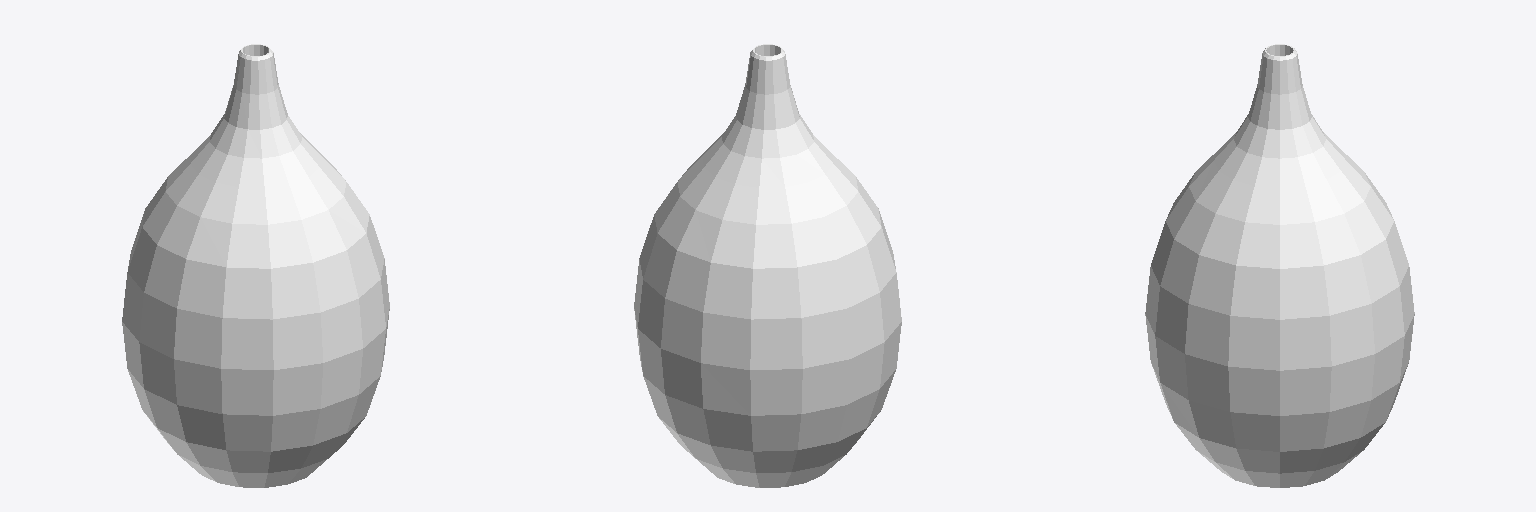
The model's file is vase_5.obj.
3 views of the same model, side by side, from view 1: azimuth 30°, elevation 25°; view 2: azimuth 150°, elevation 25°; view 3: azimuth 270°, elevation 25° (orthographic).
Visible parts, largest first — view 1: vase_006; view 2: vase_006; view 3: vase_006.
Boxes of the visible parts, box(x1,y1,x2,y2) form: vase_006: box(122, 44, 389, 487); vase_006: box(634, 44, 901, 487); vase_006: box(1145, 44, 1414, 487).
Size of the model in its own units: 0.1397 by 0.2352 by 0.1397.